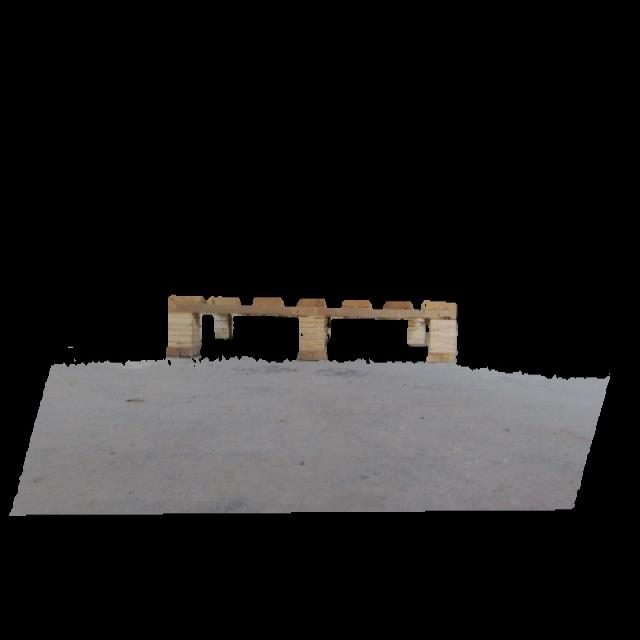block: (429, 306, 461, 367), (296, 301, 325, 362), (170, 301, 199, 357), (405, 314, 422, 349), (212, 307, 230, 336)
front: (164, 292, 462, 371)
